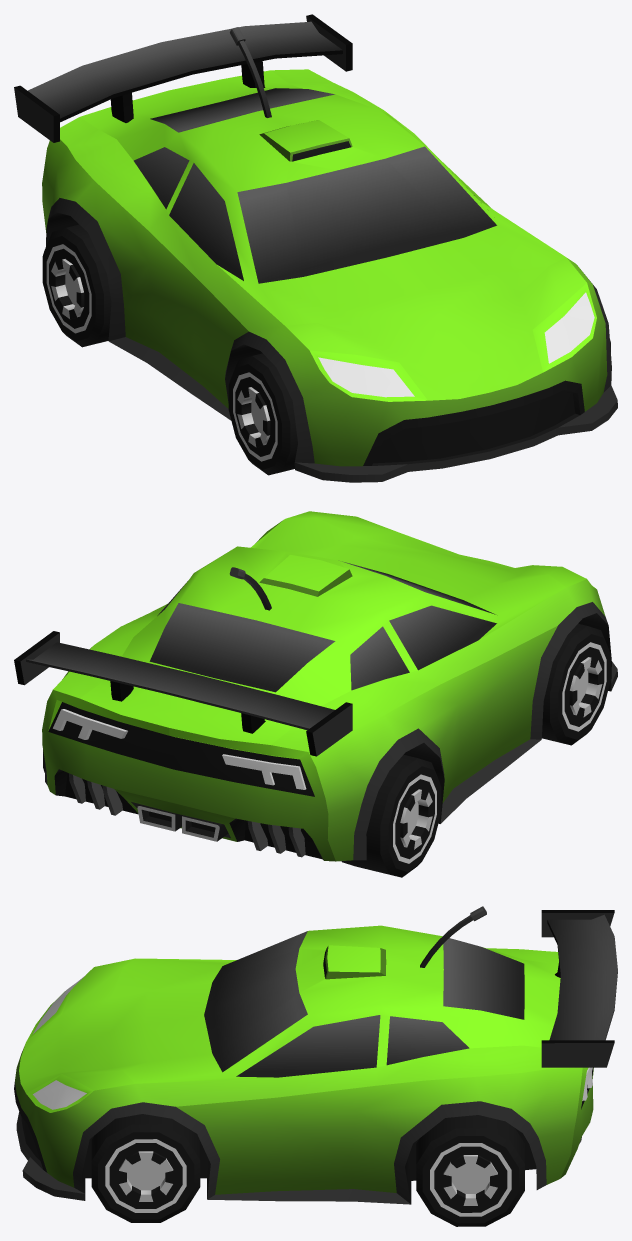
3 views of the same model, one above another, from view 1: azimuth 30°, elevation 25°; view 2: azimuth 150°, elevation 25°; view 3: azimuth 270°, elevation 25° (orthographic). The views are drawn at different scales.
Parts seen in each view (by area): view 1: 4, horizonastire.011, horizonastire.009; view 2: 4, horizonastire.011, horizonastire.009; view 3: 4, horizonastire.010, horizonastire.008.
Boxes of the visible parts, x1,y1,x2,y2 form: 4: (14, 14, 617, 482); horizonastire.011: (42, 224, 111, 347); horizonastire.009: (228, 353, 297, 475); 4: (14, 511, 617, 861); horizonastire.011: (341, 754, 441, 877); horizonastire.009: (542, 623, 610, 745); 4: (14, 906, 617, 1204); horizonastire.010: (416, 1115, 524, 1226); horizonastire.008: (91, 1114, 200, 1222).
Size of the model in its own units: 216 by 157 by 352.
